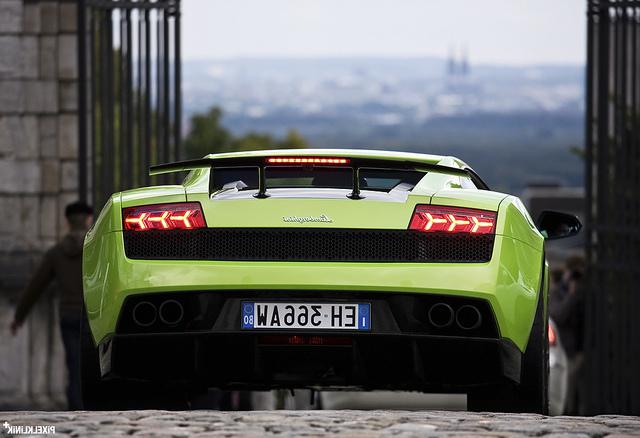Car: (66, 134, 576, 420)
